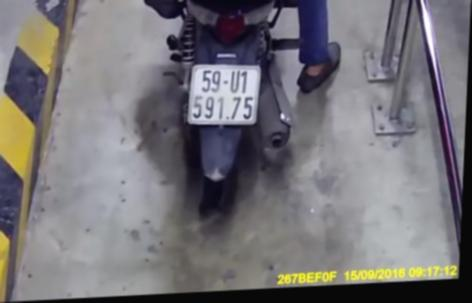License_Plate: (185, 59, 268, 133)
